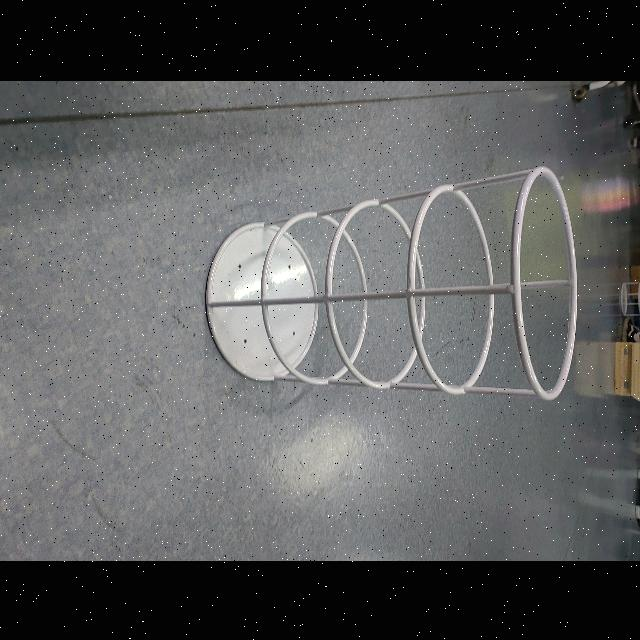S: (201, 164, 583, 404)
